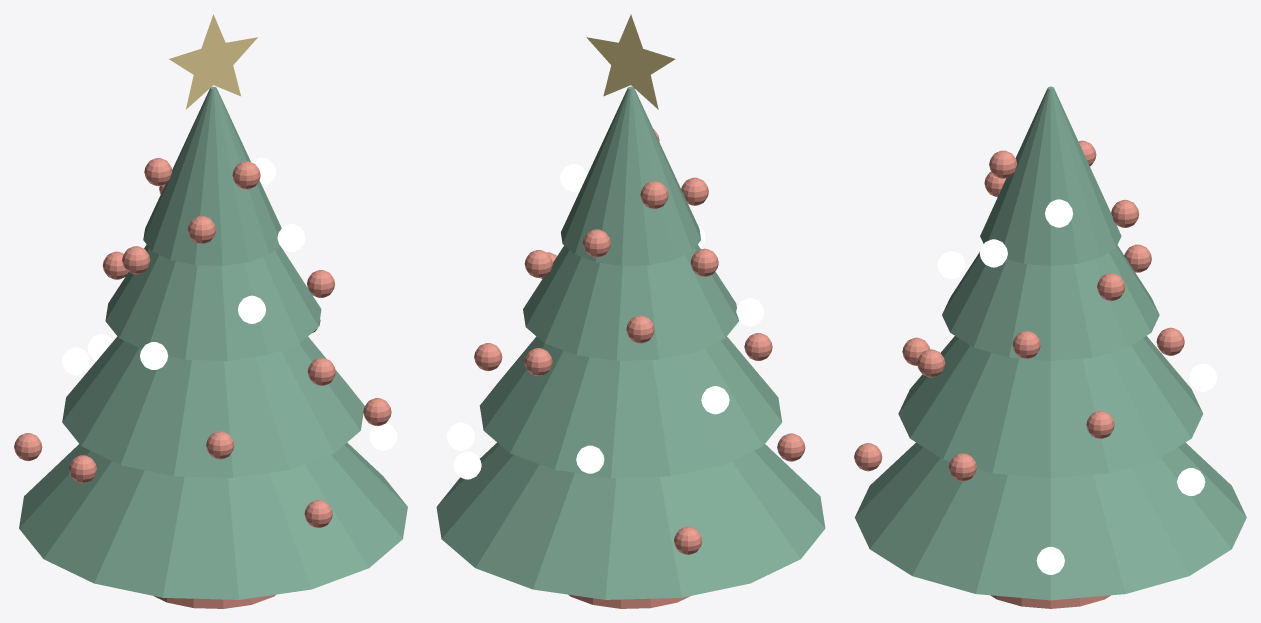
Rendered from remaster_decor_tree.glb.
The picture shows the model from 3 angles, left to right: view 1: azimuth 30°, elevation 25°; view 2: azimuth 150°, elevation 25°; view 3: azimuth 270°, elevation 25°; orthographic projection.
Visible parts, largest first — view 1: Evergreen branches.004, Evergreen branches.005, Evergreen branches.006, Evergreen branches.007, Golden star.001, Tree pot.001, Festive ornament.031, Festive ornament.033, Festive ornament.028, Festive ornament.034, Festive ornament.047, Festive ornament.025 (+11 smaller); view 2: Evergreen branches.004, Evergreen branches.005, Evergreen branches.006, Evergreen branches.007, Golden star.001, Tree pot.001, Festive ornament.038, Festive ornament.027, Festive ornament.030, Festive ornament.028, Festive ornament.024, Festive ornament.043 (+11 smaller); view 3: Evergreen branches.004, Evergreen branches.005, Evergreen branches.006, Evergreen branches.007, Tree pot.001, Festive ornament.042, Festive ornament.029, Festive ornament.039, Festive ornament.045, Festive ornament.024, Festive ornament.034, Festive ornament.040 (+9 smaller).
Part boxes in pixels (box(x1,y1,x2,y2)): Evergreen branches.004: box(19, 442, 407, 599); Evergreen branches.005: box(62, 336, 364, 477); Evergreen branches.006: box(105, 244, 321, 360); Evergreen branches.007: box(143, 86, 281, 265); Golden star.001: box(169, 14, 257, 109); Tree pot.001: box(154, 594, 275, 608); Festive ornament.031: box(206, 431, 234, 459); Festive ornament.033: box(62, 347, 90, 375); Festive ornament.028: box(68, 455, 96, 483); Festive ornament.034: box(307, 357, 335, 385); Festive ornament.047: box(232, 161, 260, 189); Festive ornament.025: box(14, 433, 42, 461); Evergreen branches.004: box(436, 442, 825, 599); Evergreen branches.005: box(479, 336, 782, 477); Evergreen branches.006: box(523, 244, 738, 360); Evergreen branches.007: box(561, 86, 700, 265); Golden star.001: box(586, 14, 675, 109); Tree pot.001: box(568, 594, 690, 608); Festive ornament.038: box(626, 315, 654, 343); Festive ornament.027: box(453, 451, 481, 479); Festive ornament.030: box(576, 445, 604, 473); Festive ornament.028: box(777, 433, 805, 461); Festive ornament.024: box(447, 422, 475, 450); Festive ornament.043: box(582, 229, 610, 257); Evergreen branches.004: box(855, 442, 1246, 600); Evergreen branches.005: box(898, 336, 1202, 478); Evergreen branches.006: box(942, 245, 1159, 360); Evergreen branches.007: box(980, 86, 1121, 265); Tree pot.001: box(990, 595, 1110, 608); Festive ornament.042: box(979, 239, 1007, 267); Festive ornament.029: box(948, 453, 976, 481); Festive ornament.039: box(937, 251, 965, 279); Festive ornament.045: box(1045, 199, 1073, 227); Festive ornament.024: box(1036, 546, 1064, 574); Festive ornament.034: box(917, 349, 945, 377); Festive ornament.040: box(1097, 273, 1125, 301).
Bounding box in the file's own units: 3.73 × 5.7 × 3.61.
